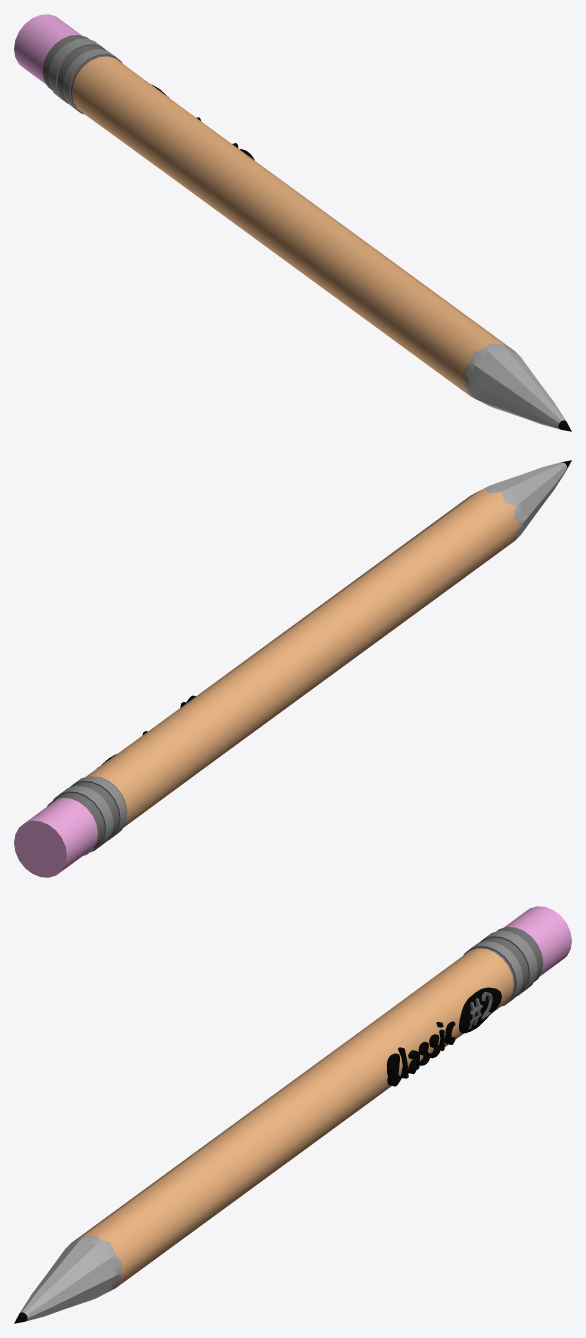
Rendered from Pencil.fbx.
The picture shows the model from 3 angles, top to bottom: view 1: azimuth 30°, elevation 25°; view 2: azimuth 150°, elevation 25°; view 3: azimuth 330°, elevation 25°; orthographic projection.
Visible parts, largest first — view 1: Main_Pencil; view 2: Main_Pencil; view 3: Main_Pencil, Classic, black_oval.
Part boxes in pixels (box(x1,y1,x2,y2)): Main_Pencil: box(14, 14, 571, 431); Main_Pencil: box(14, 460, 571, 877); Main_Pencil: box(14, 906, 571, 1323); Classic: box(386, 1021, 455, 1086); black_oval: box(459, 987, 501, 1033).
Size of the model in its own units: 0.7359 by 0.6848 by 10.9.
